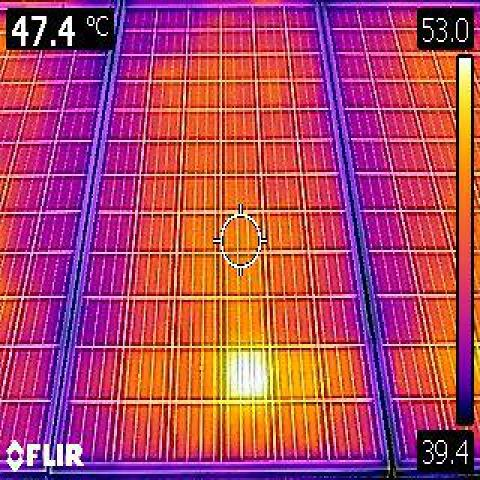fault: (221, 344, 269, 406)
